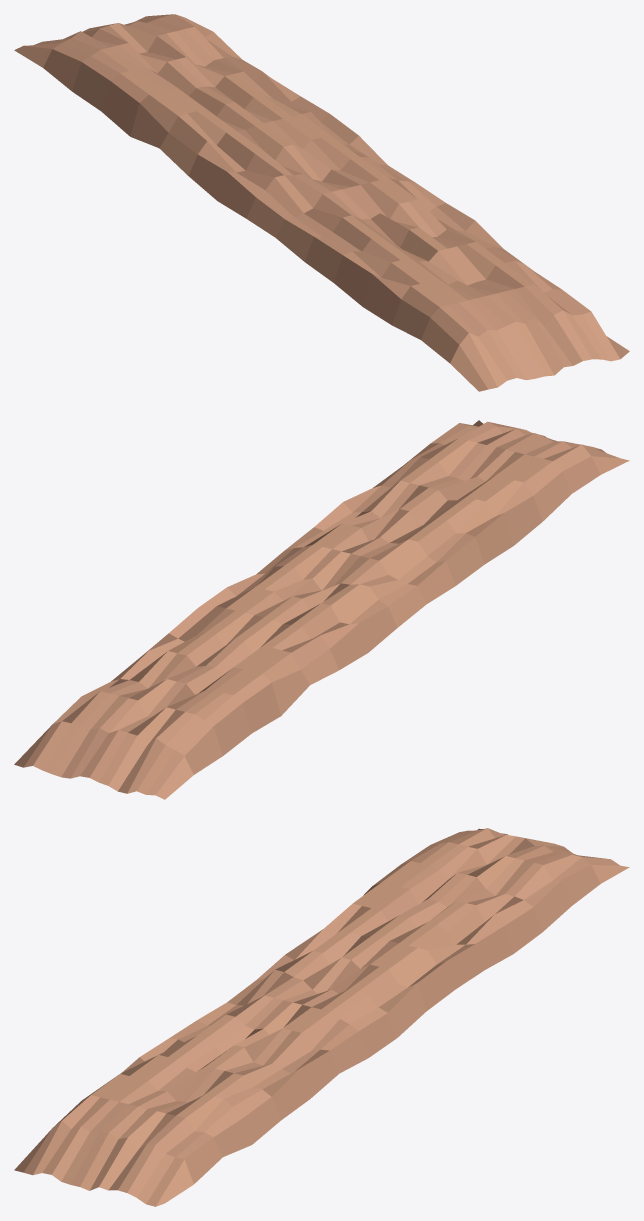
Rendered from mod_bg_SolEtroit.fbx.
3 renders of one model, top to bottom at view 1: azimuth 30°, elevation 25°; view 2: azimuth 150°, elevation 25°; view 3: azimuth 330°, elevation 25°, orthographic.
Parts seen in each view (by area): view 1: SolEtroit; view 2: SolEtroit; view 3: SolEtroit.
Boxes of the visible parts, left/top/right/bottom form: SolEtroit: left=14, top=14, right=629, bottom=391; SolEtroit: left=14, top=420, right=629, bottom=799; SolEtroit: left=14, top=828, right=629, bottom=1206.
Size of the model in its own units: 75 by 18.78 by 400.
